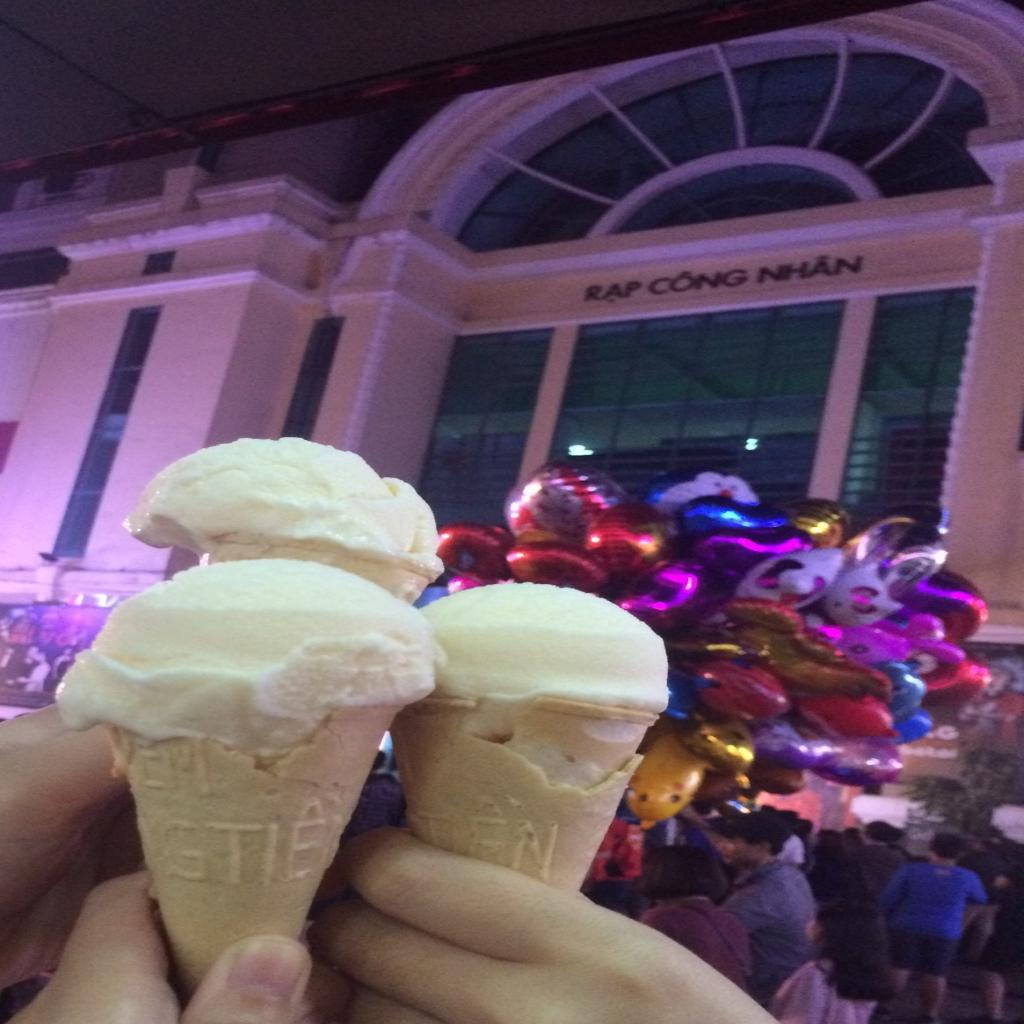text: (649, 262, 753, 295), (579, 277, 645, 303)
